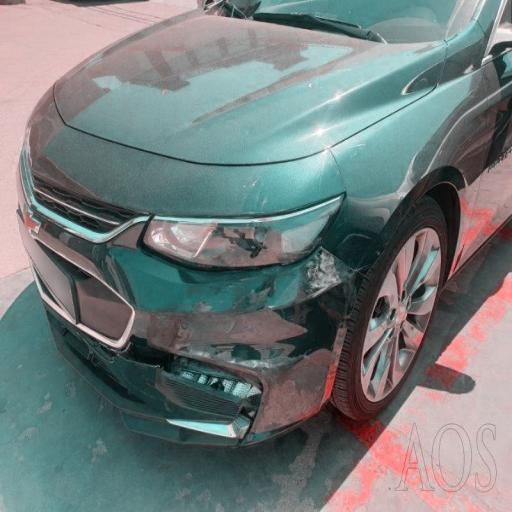dent: (150, 158, 356, 435)
